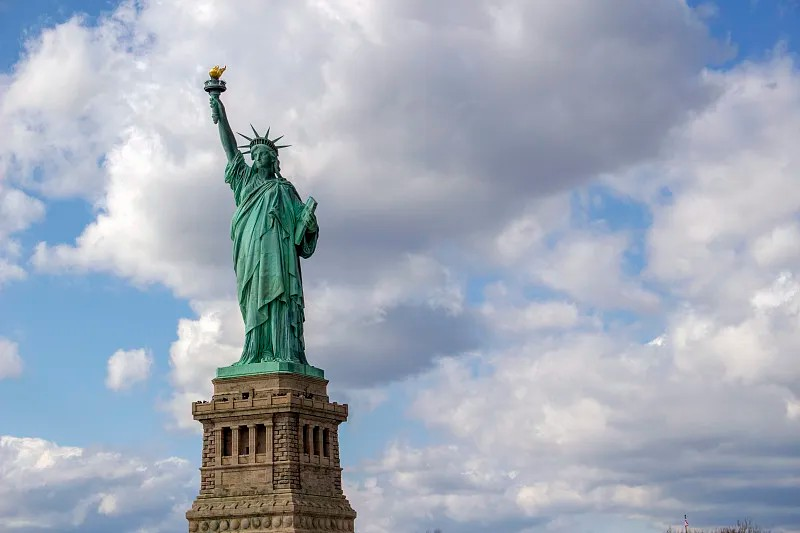SL: (184, 65, 357, 533)
